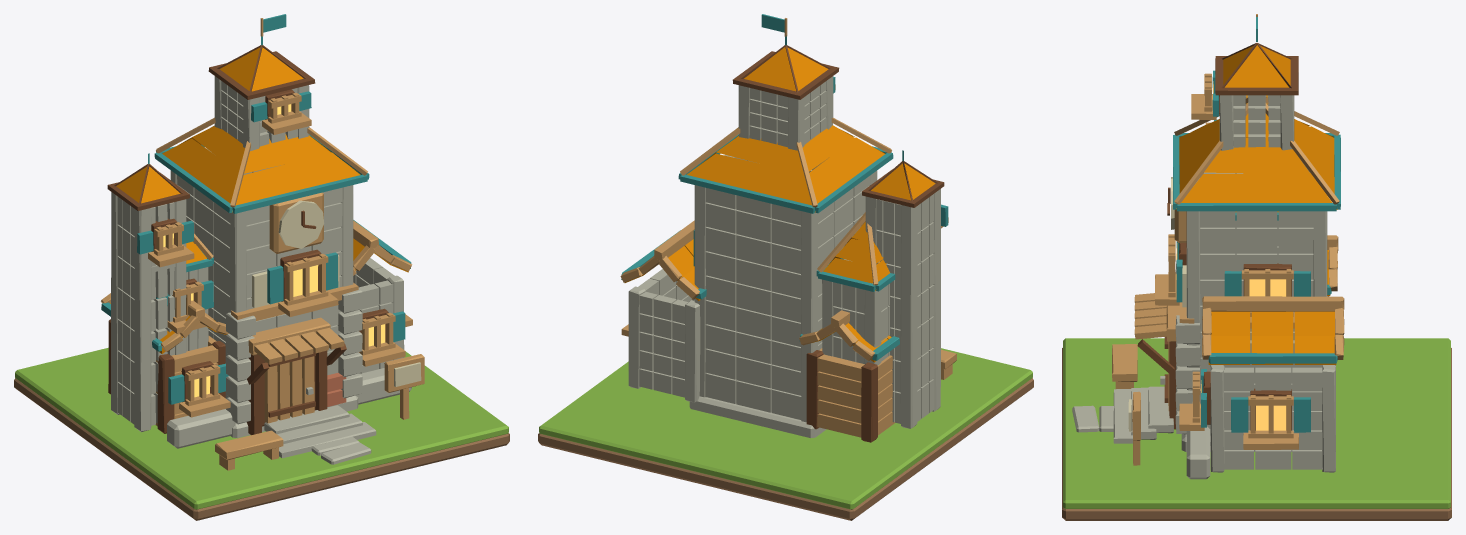
File: town_hall_l08_active_LOD1.glb
3 views of the same model, side by side, from view 1: azimuth 30°, elevation 25°; view 2: azimuth 150°, elevation 25°; view 3: azimuth 270°, elevation 25° (orthographic). The views are drawn at different scales.
Parts seen in each view (by area): view 1: town_hall_l08_active_foundation.001, town_hall_l08_active_grass_tile.001, town_hall_l08_active_earth_tile.001, town_hall_l08_active_path_stone.005; view 2: town_hall_l08_active_foundation.001, town_hall_l08_active_grass_tile.001, town_hall_l08_active_earth_tile.001; view 3: town_hall_l08_active_foundation.001, town_hall_l08_active_grass_tile.001, town_hall_l08_active_earth_tile.001, town_hall_l08_active_path_stone.005.
Boxes of the visible parts, box(x1,y1,x2,y2) form: town_hall_l08_active_foundation.001: box(101, 14, 424, 470); town_hall_l08_active_grass_tile.001: box(15, 347, 508, 509); town_hall_l08_active_earth_tile.001: box(14, 378, 509, 520); town_hall_l08_active_path_stone.005: box(321, 442, 371, 464); town_hall_l08_active_foundation.001: box(620, 14, 956, 442); town_hall_l08_active_grass_tile.001: box(539, 348, 1032, 509); town_hall_l08_active_earth_tile.001: box(538, 378, 1033, 520); town_hall_l08_active_foundation.001: box(1112, 14, 1344, 479); town_hall_l08_active_grass_tile.001: box(1063, 338, 1450, 508); town_hall_l08_active_earth_tile.001: box(1062, 348, 1451, 520); town_hall_l08_active_path_stone.005: box(1072, 405, 1099, 432).
Size of the model in its own units: 3.6 by 4.34 by 3.6.
